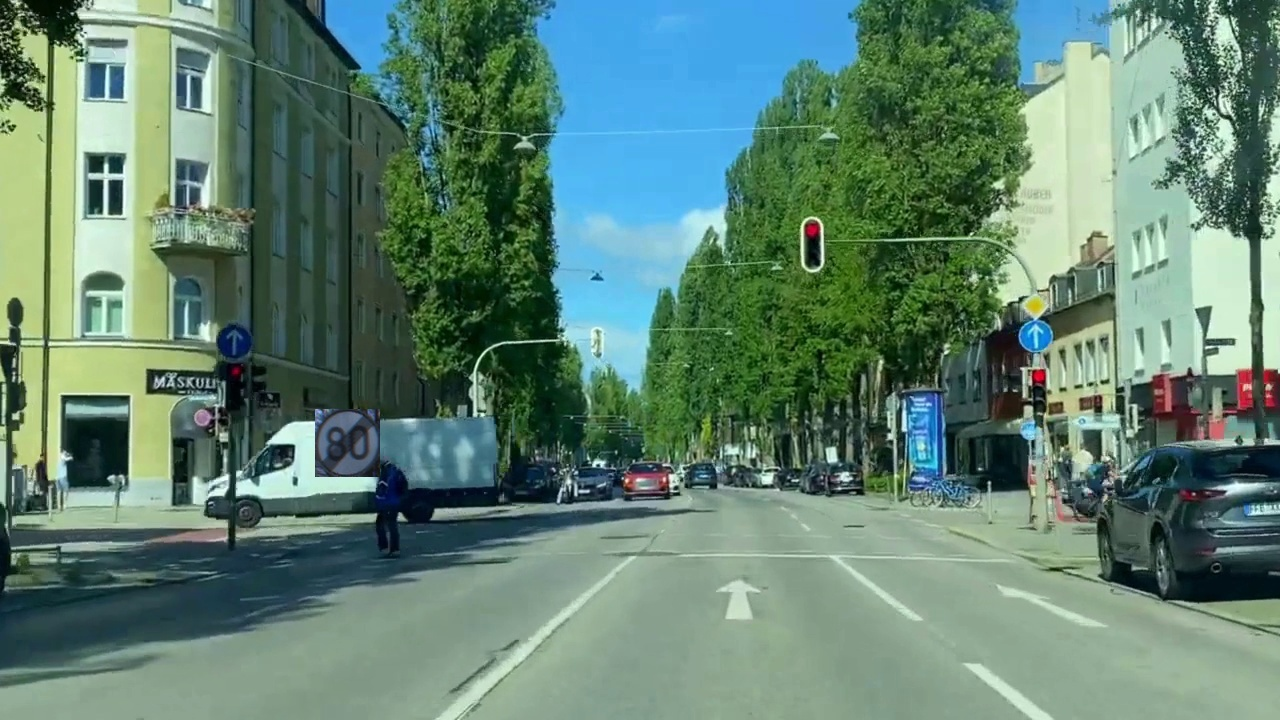End Speed 80: (315, 409, 380, 477)
